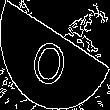O_NE: (31, 22, 79, 88)
